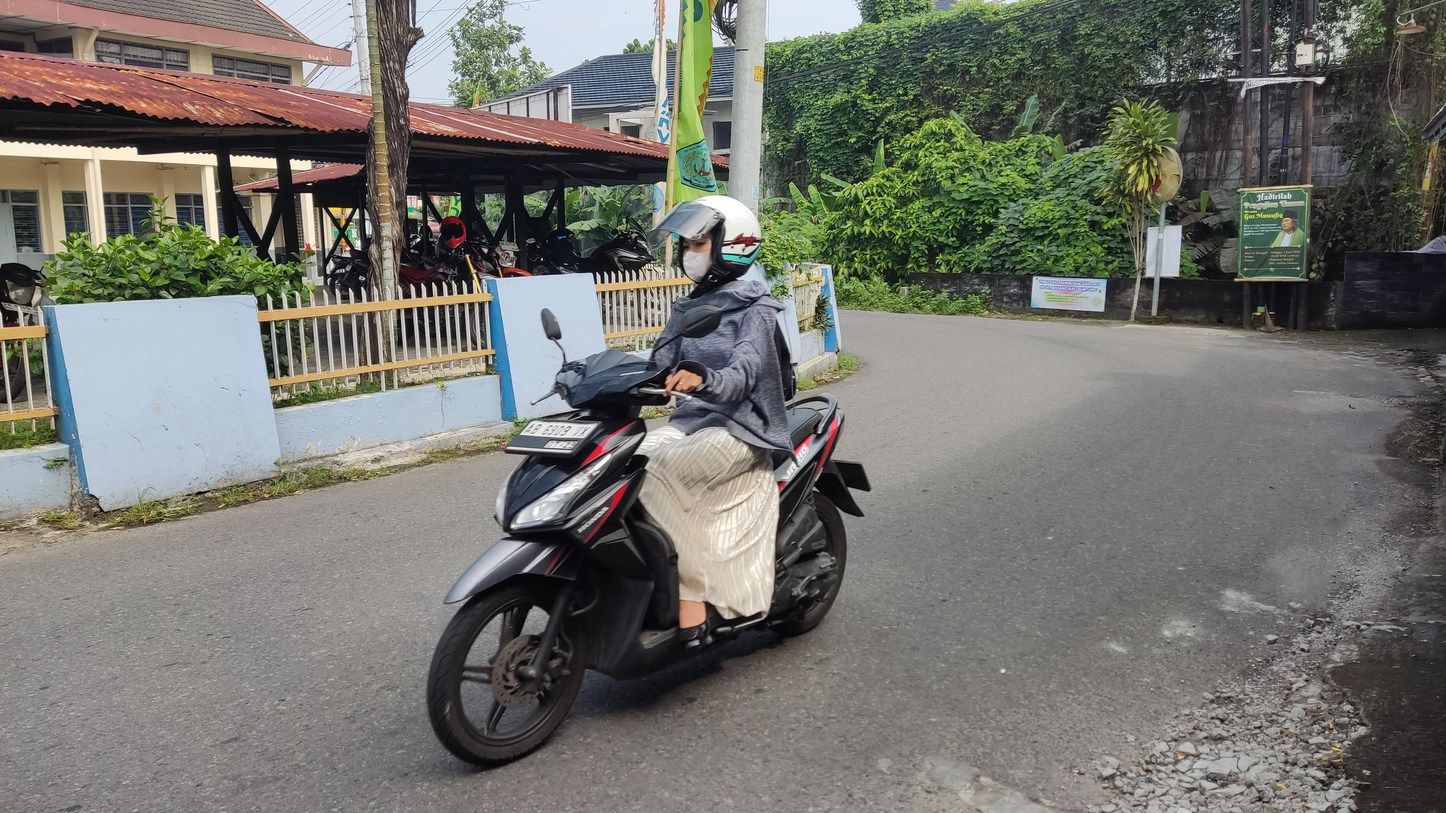helm: (649, 188, 771, 291)
riding: (417, 183, 877, 772)
